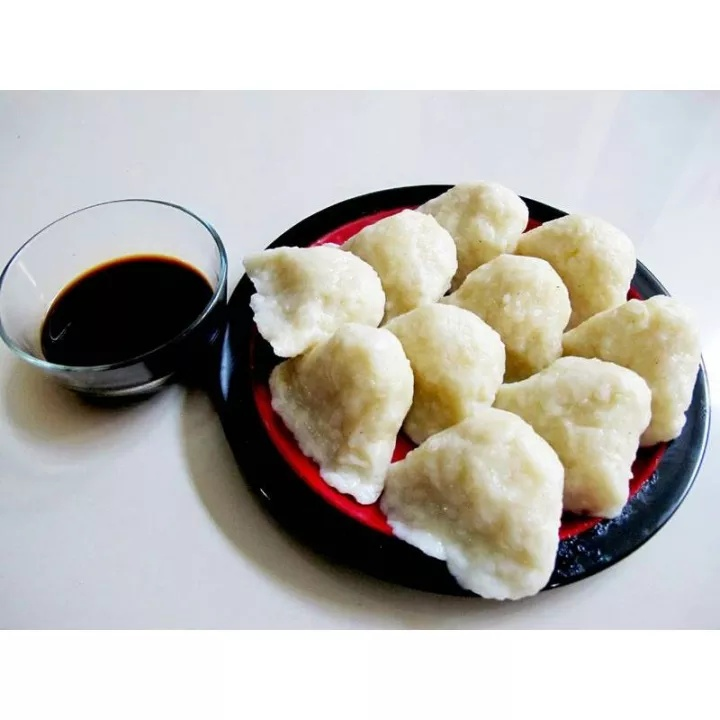pempek: (240, 184, 705, 597)
